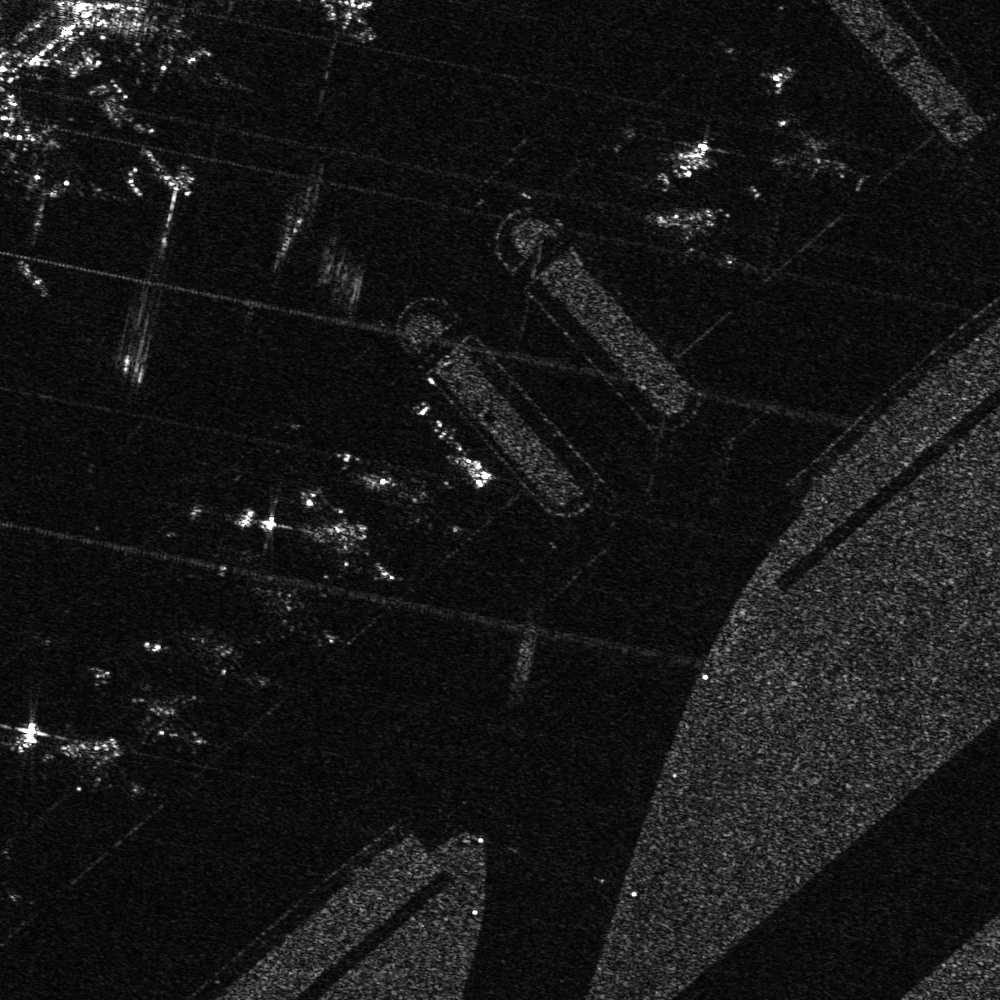Boeing737: (333, 445, 442, 540), (296, 489, 388, 591), (241, 569, 347, 655), (775, 105, 873, 191), (192, 622, 291, 704), (640, 189, 737, 270), (62, 737, 156, 811), (138, 684, 207, 754)
